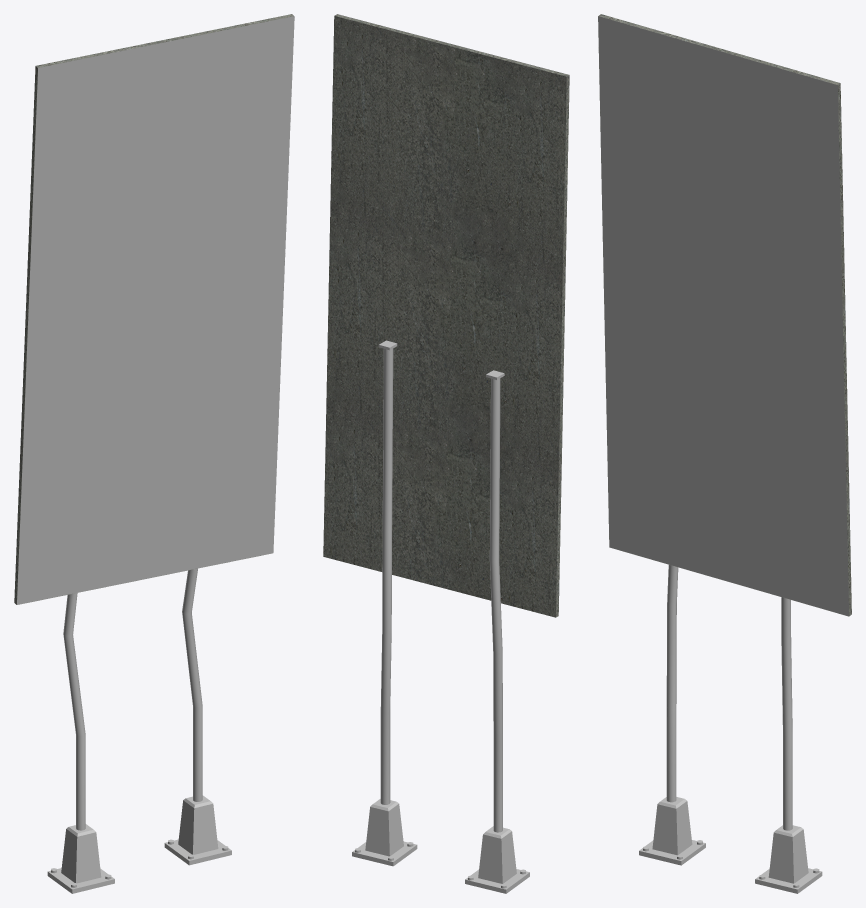
The model's file is RV_Signs_01.fbx.
3 renders of one model, left to right at view 1: azimuth 30°, elevation 25°; view 2: azimuth 150°, elevation 25°; view 3: azimuth 330°, elevation 25°, orthographic. The views are drawn at different scales.
Parts seen in each view (by area): view 1: RV_Signs_01; view 2: RV_Signs_01; view 3: RV_Signs_01.
Part boxes in pixels (box(x1,y1,x2,y2)): RV_Signs_01: box(14, 14, 294, 893); RV_Signs_01: box(323, 14, 569, 893); RV_Signs_01: box(598, 14, 851, 893).
Size of the model in its own units: 133 by 418 by 32.46.
